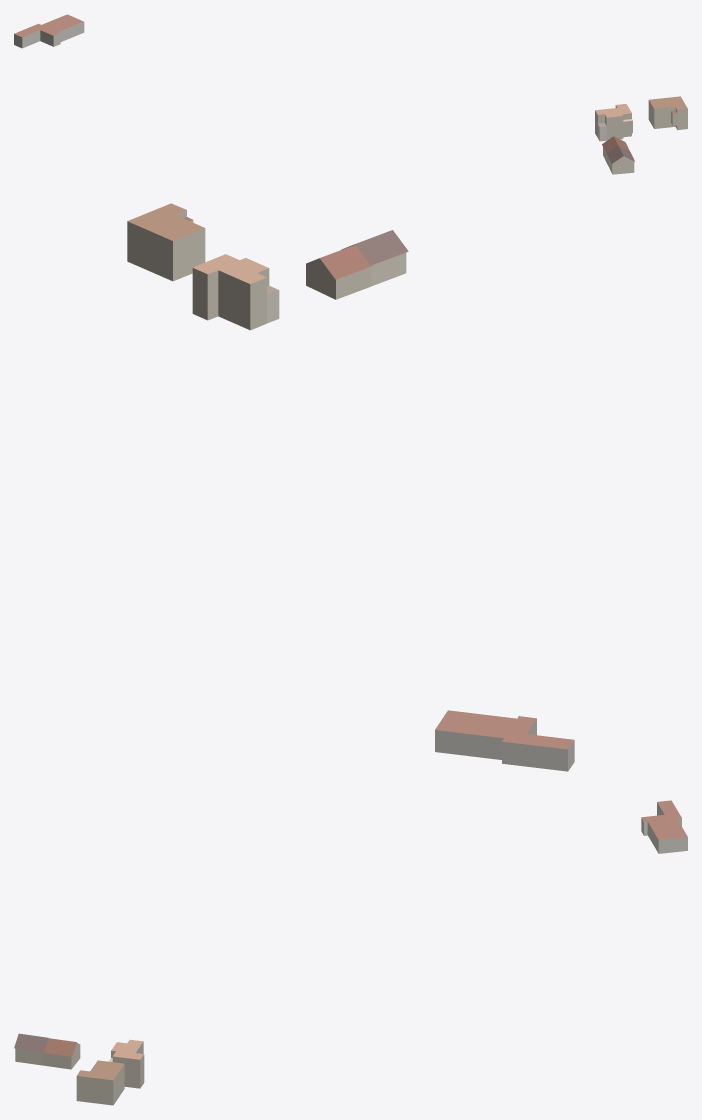
3 views of the same model, one above another, from view 1: azimuth 30°, elevation 25°; view 2: azimuth 150°, elevation 25°; view 3: azimuth 270°, elevation 25° (orthographic). The views are drawn at different scales.
Parts seen in each view (by area): view 1: tuile; view 2: tuile; view 3: tuile.
Part boxes in pixels (left/top/right/bottom): tuile: left=14, top=14, right=687, bottom=174; tuile: left=127, top=203, right=574, bottom=771; tuile: left=14, top=800, right=687, bottom=1105.
Bounding box in the file's own units: 217 × 16.45 × 228.
